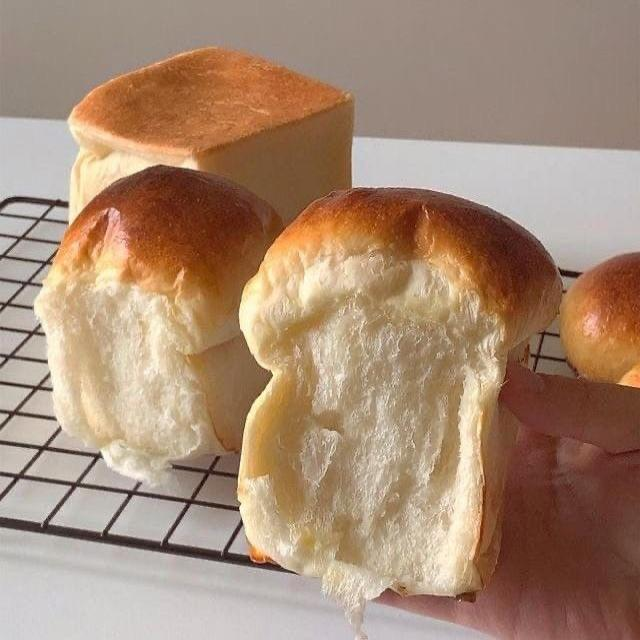bread: (238, 188, 560, 612), (35, 166, 281, 483), (69, 48, 352, 221), (560, 253, 639, 382), (618, 365, 639, 388)
